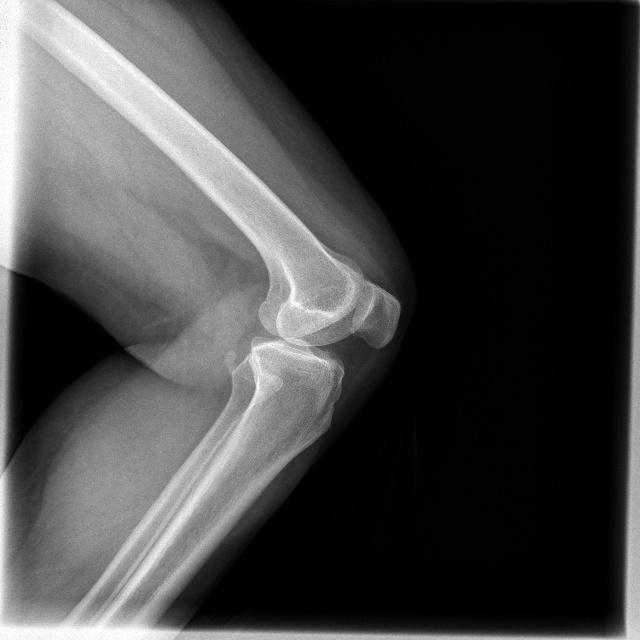Knee: (241, 241, 408, 426)
